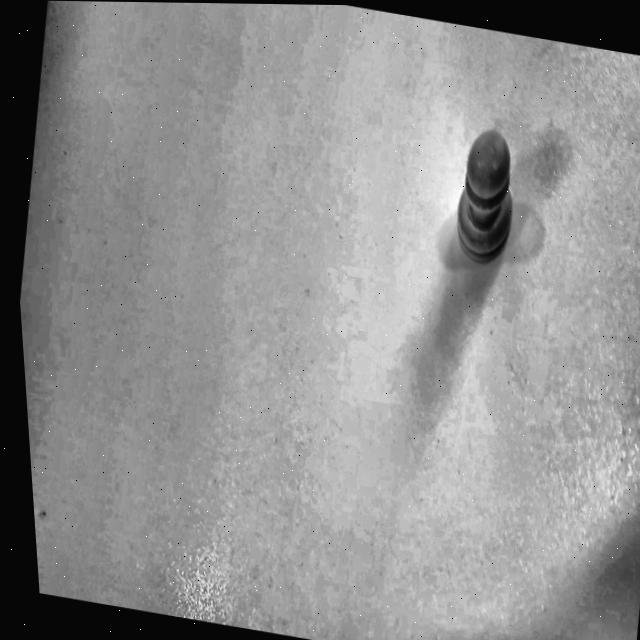white-pawn: (422, 83, 575, 292)
